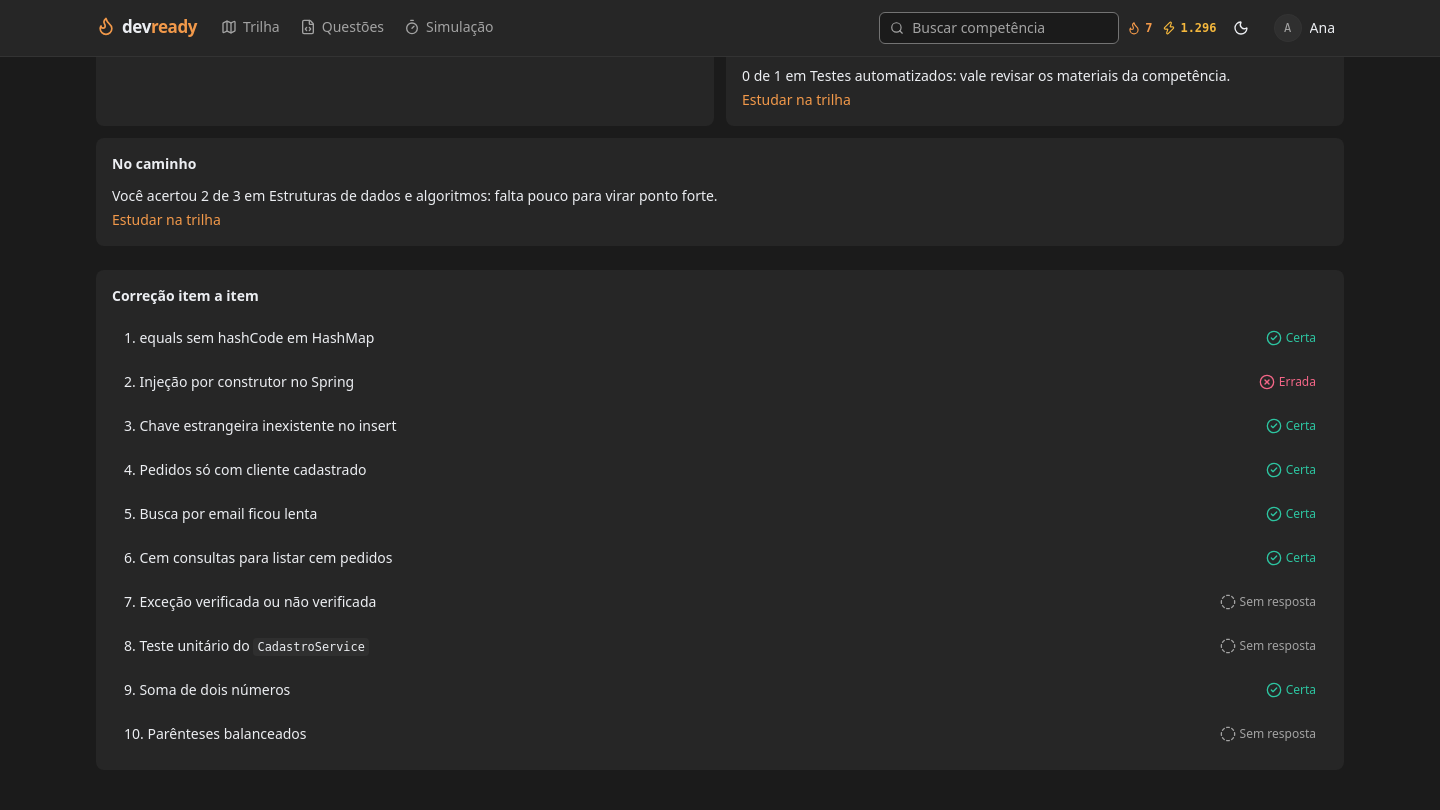
Test: resultado da sessão › simulação no nível do objetivo abre o desafio no editor
The width and height of the screenshot is (1440, 810).
(page scrolled)
Click the heading "9. Soma de dois números Certa": (215, 690) [124, 680, 1316, 699]
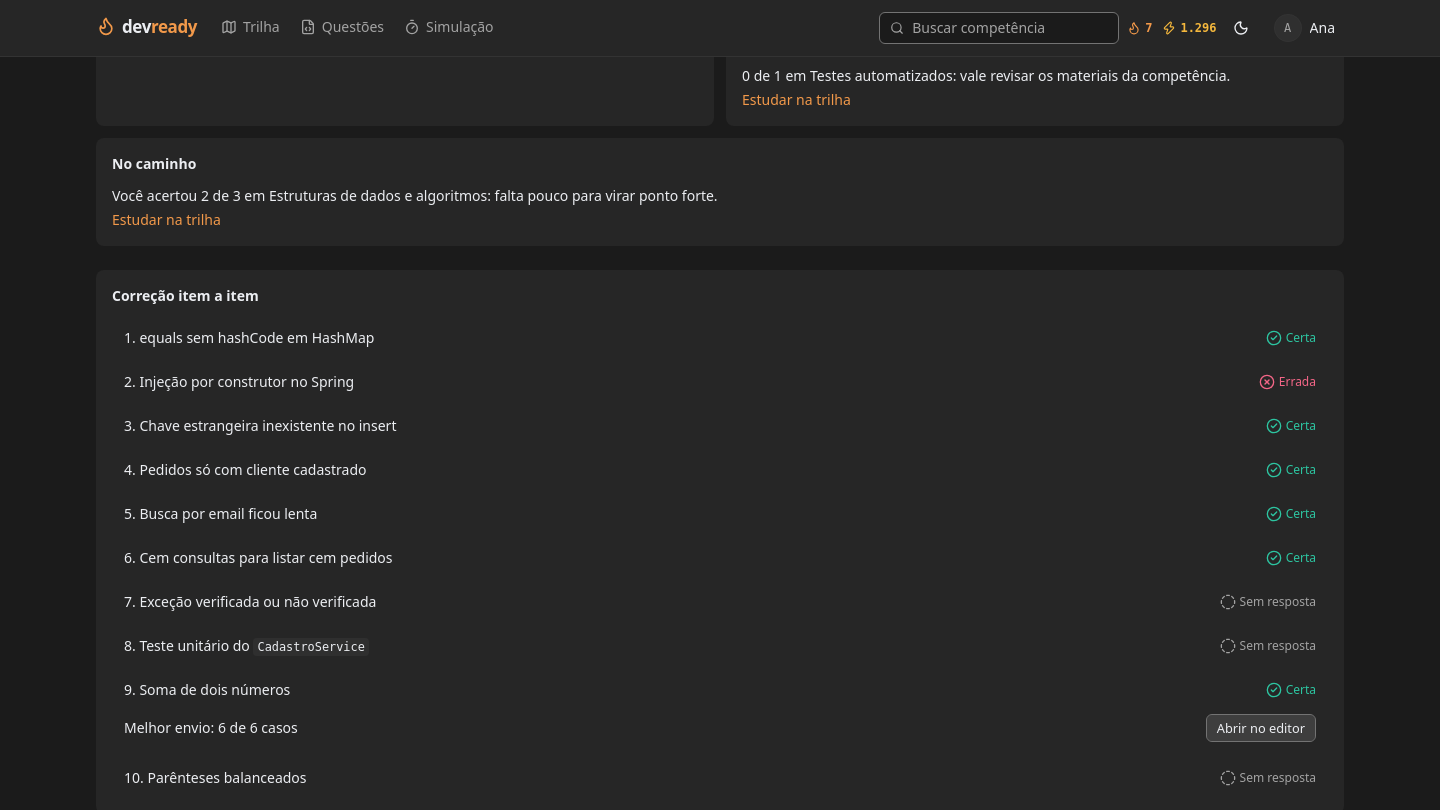
expect the button "Abrir no editor" is shown: met, box [1206, 714, 1316, 742]
